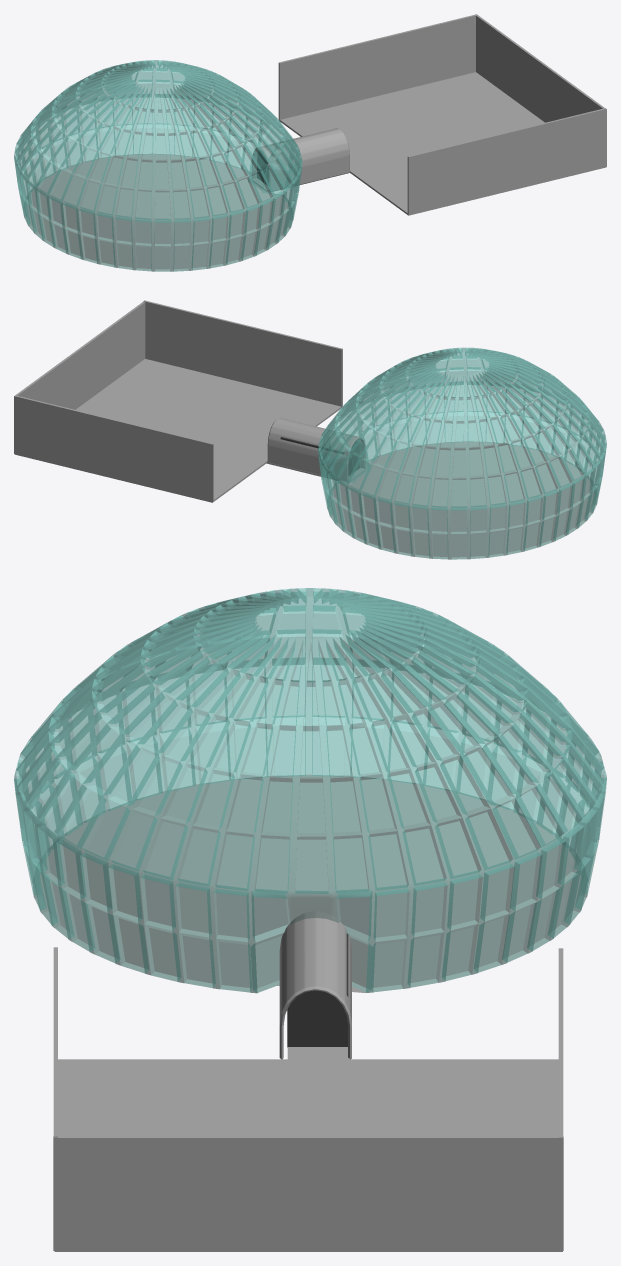
The model's file is BioMedRoom.fbx.
3 renders of one model, top to bottom at view 1: azimuth 30°, elevation 25°; view 2: azimuth 150°, elevation 25°; view 3: azimuth 270°, elevation 25°, orthographic. The views are drawn at different scales.
Parts seen in each view (by area): view 1: BIODOME1:polySurface1, pCube1, pCube9, pCube8, pCube10, pPipe1; view 2: BIODOME1:polySurface1, pCube1, pCube8, pCube9, pCube10, pPipe1, MedRoomWithDoor:polySurface10; view 3: BIODOME1:polySurface1, pCube10, pCube1, pPipe1, MedRoomWithDoor:polySurface10, pCube8, pCube9.
Boxes of the visible parts, bbox=[...] form: BIODOME1:polySurface1: bbox=[14, 60, 302, 271]; pCube1: bbox=[279, 72, 605, 215]; pCube9: bbox=[407, 108, 606, 214]; pCube8: bbox=[278, 14, 477, 120]; pCube10: bbox=[476, 14, 606, 167]; pPipe1: bbox=[252, 128, 349, 191]; BIODOME1:polySurface1: bbox=[318, 347, 606, 559]; pCube1: bbox=[14, 359, 341, 502]; pCube8: bbox=[15, 395, 213, 501]; pCube9: bbox=[143, 300, 342, 406]; pCube10: bbox=[14, 301, 145, 454]; pPipe1: bbox=[267, 417, 365, 481]; MedRoomWithDoor:polySurface10: bbox=[280, 437, 359, 475]; BIODOME1:polySurface1: bbox=[14, 588, 606, 993]; pCube10: bbox=[53, 1136, 563, 1250]; pCube1: bbox=[54, 1059, 562, 1251]; pPipe1: bbox=[279, 911, 351, 1059]; MedRoomWithDoor:polySurface10: bbox=[287, 933, 348, 1047]; pCube8: bbox=[558, 948, 563, 1137]; pCube9: bbox=[53, 947, 57, 1137].
Size of the model in its own units: 18.41 by 4.77 by 9.53.
